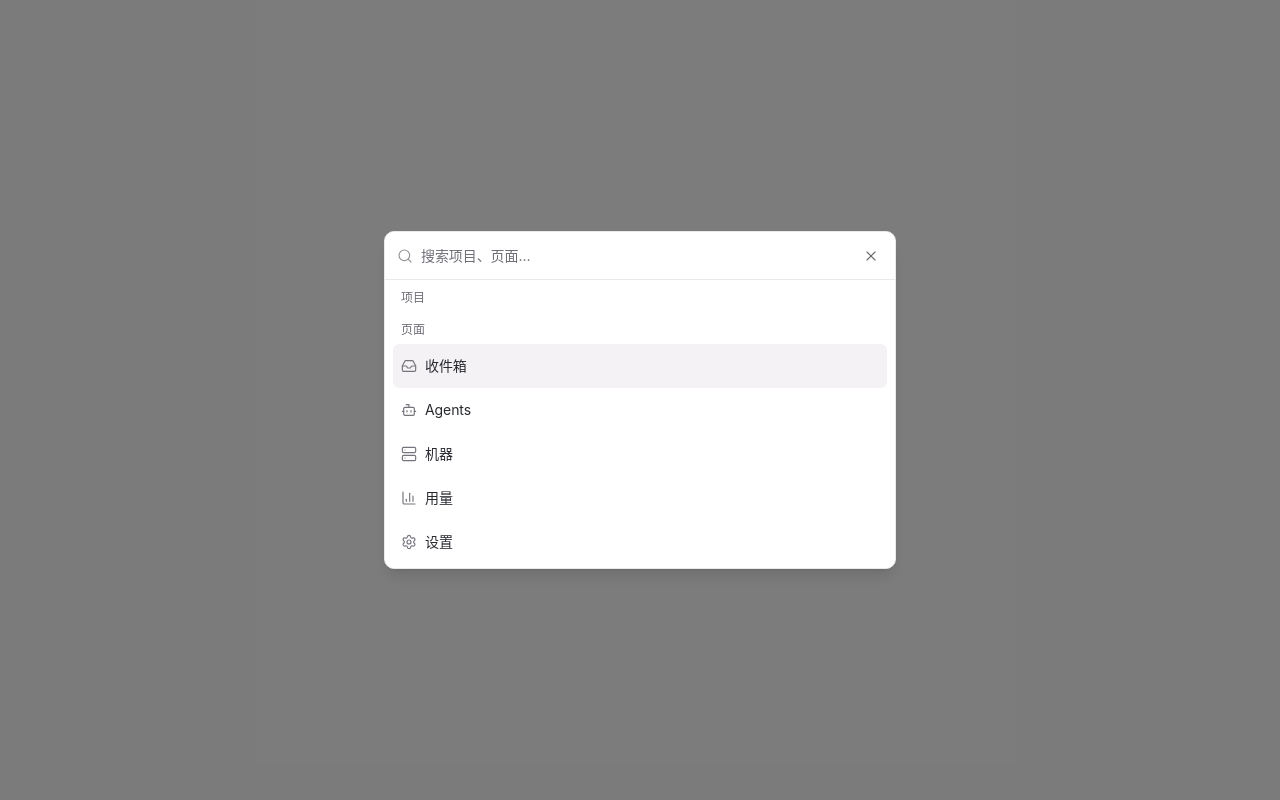
CommandPalette › looks in no attachments outside a chat
In the dropdown with placeholder "搜索项目、页面…": point(652, 256) x1=421 y1=232 x2=883 y2=280, type "spec"
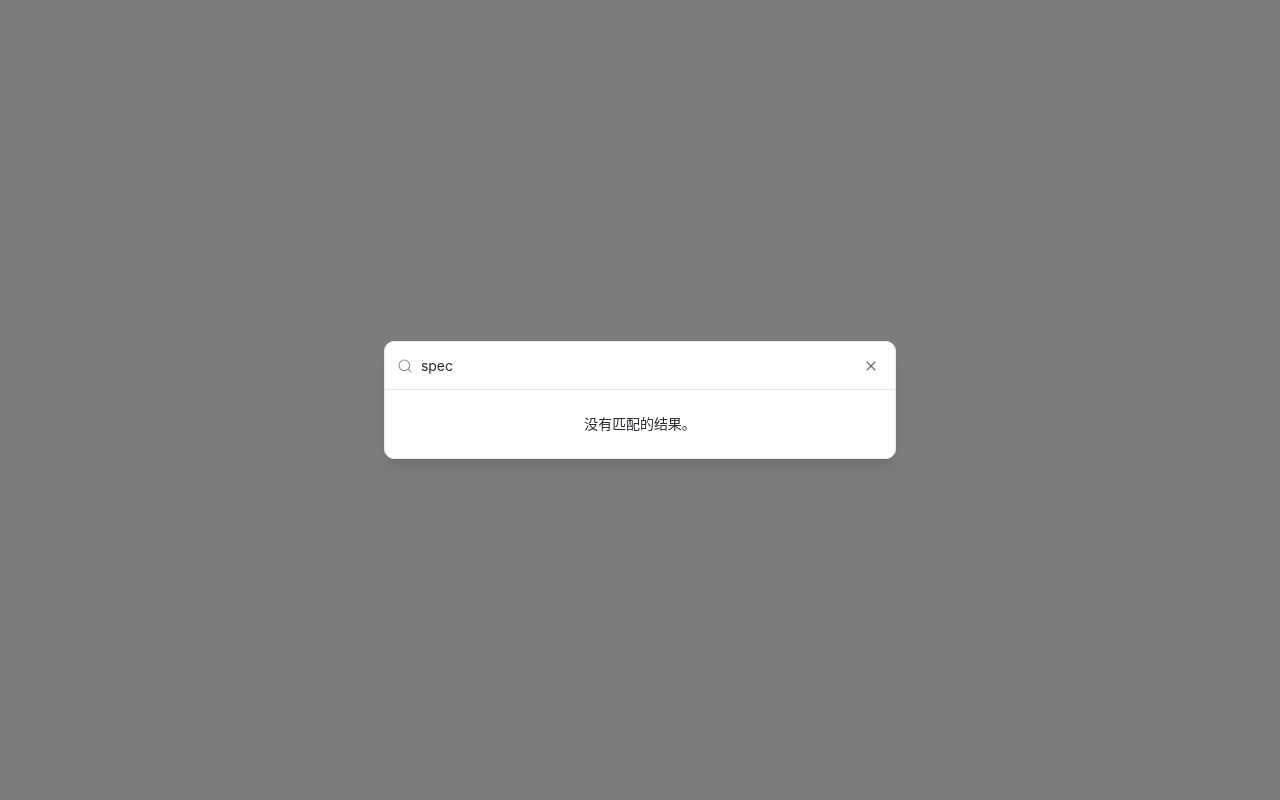
Result: the text "没有匹配的结果。" is shown at x1=584 y1=415 x2=696 y2=432
